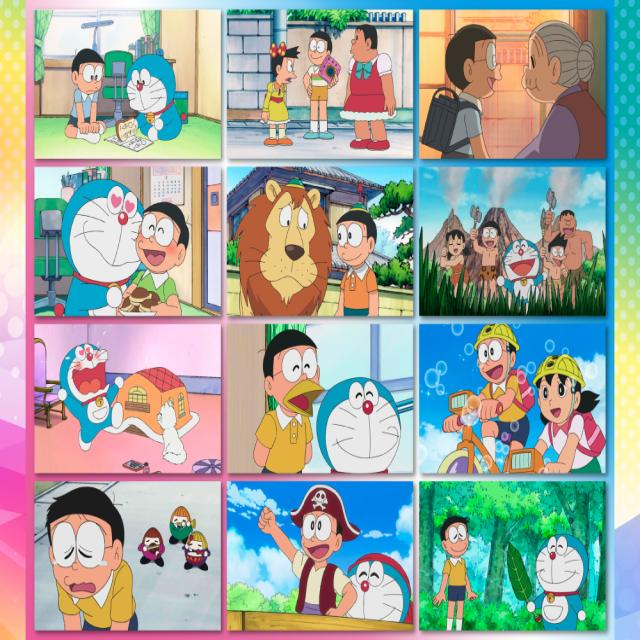doraemon: (59, 176, 152, 295), (119, 44, 186, 123)
nobita: (43, 482, 134, 612), (260, 323, 328, 421), (130, 195, 193, 284), (324, 206, 377, 286), (472, 328, 521, 388), (66, 44, 109, 105), (432, 514, 477, 568)
shizuka: (532, 356, 589, 434)
